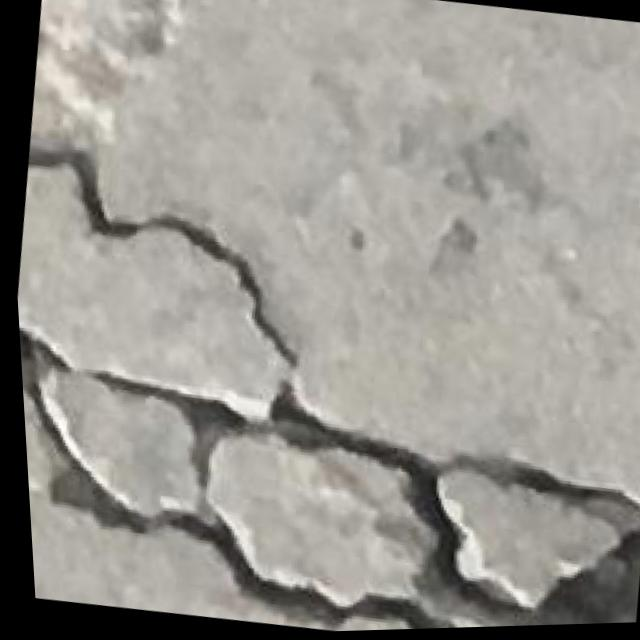Crack: (15, 302, 640, 640), (5, 108, 351, 390)
